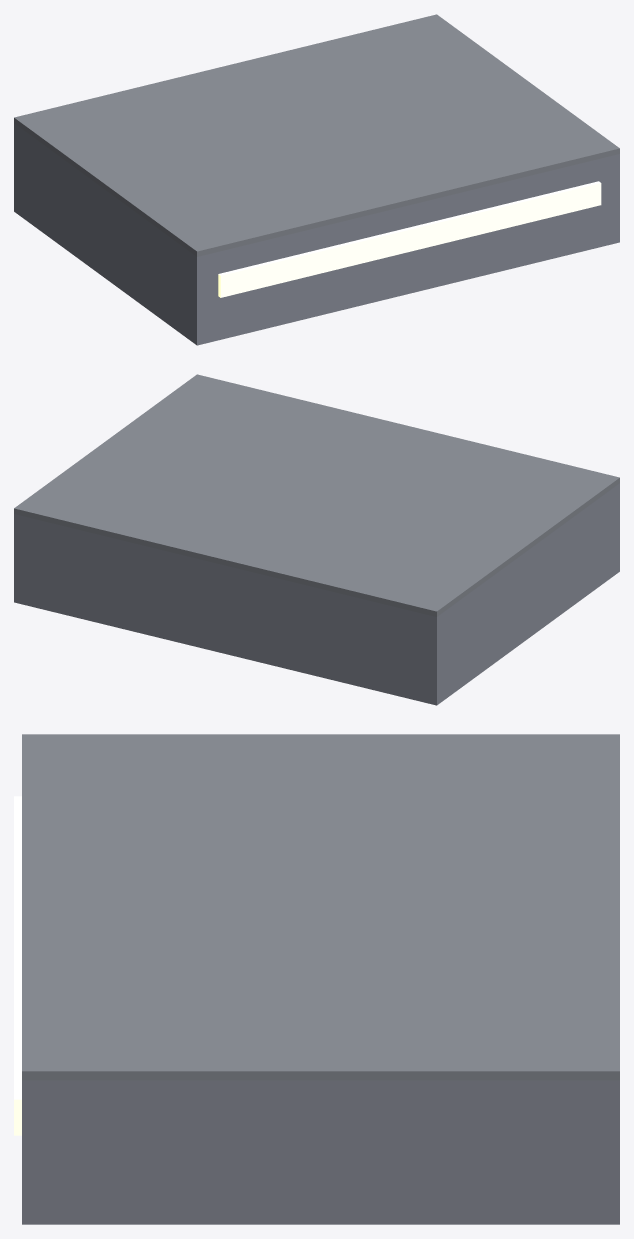
Rendered from cinema.glb.
3 renders of one model, top to bottom at view 1: azimuth 30°, elevation 25°; view 2: azimuth 150°, elevation 25°; view 3: azimuth 270°, elevation 25°, orthographic. The views are drawn at different scales.
Parts seen in each view (by area): view 1: Cube.002, Cube, Cube.001; view 2: Cube.002, Cube; view 3: Cube.002, Cube, Cube.001.
Boxes of the visible parts, x1,y1,x2,y2 form: Cube.002: [14, 14, 619, 256]; Cube: [14, 123, 619, 345]; Cube.001: [218, 181, 601, 297]; Cube.002: [14, 374, 619, 616]; Cube: [14, 483, 619, 705]; Cube.002: [22, 734, 619, 1080]; Cube: [22, 1080, 619, 1224]; Cube.001: [14, 796, 21, 1135].
Size of the model in its own units: 40 by 8.5 by 30.4.
